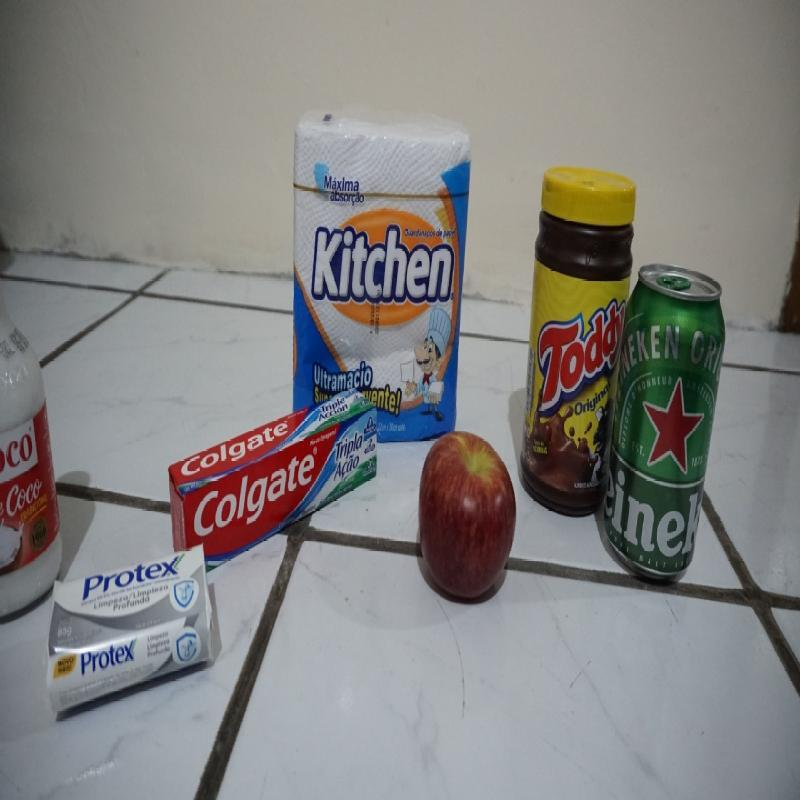Apple: (411, 427, 518, 605)
Beer can: (621, 257, 731, 586)
Chocolate Powder: (523, 160, 618, 509)
Coconut Milk: (0, 290, 64, 589)
Napkin: (293, 119, 468, 384)
Soap: (49, 554, 221, 710)
Toothpaste: (169, 394, 375, 545)
